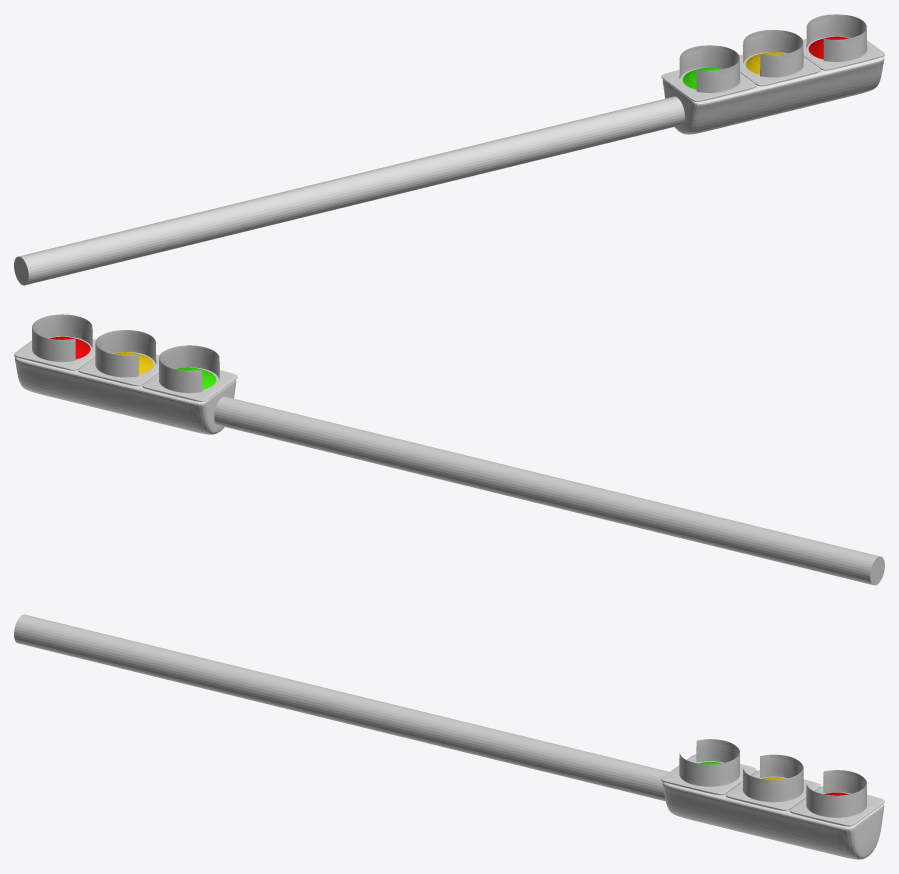
File: TrafficLight.fbx
3 views of the same model, one above another, from view 1: azimuth 30°, elevation 25°; view 2: azimuth 150°, elevation 25°; view 3: azimuth 330°, elevation 25° (orthographic).
Parts seen in each view (by area): view 1: Pole, Cover, Base, Plates; view 2: Pole, Cover, Base, Plates; view 3: Pole, Base, Cover, Plates.
Boxes of the visible parts, bbox=[...] form: Pole: bbox=[14, 96, 684, 285]; Cover: bbox=[679, 14, 867, 92]; Base: bbox=[662, 56, 884, 134]; Plates: bbox=[661, 36, 884, 101]; Pole: bbox=[214, 396, 884, 585]; Cover: bbox=[32, 314, 219, 392]; Base: bbox=[14, 356, 236, 434]; Plates: bbox=[14, 336, 237, 401]; Pole: bbox=[14, 614, 669, 801]; Base: bbox=[662, 782, 884, 859]; Cover: bbox=[679, 739, 866, 817]; Plates: bbox=[661, 754, 884, 826].
Bounding box in the file's own units: 2494 × 192 × 189.
